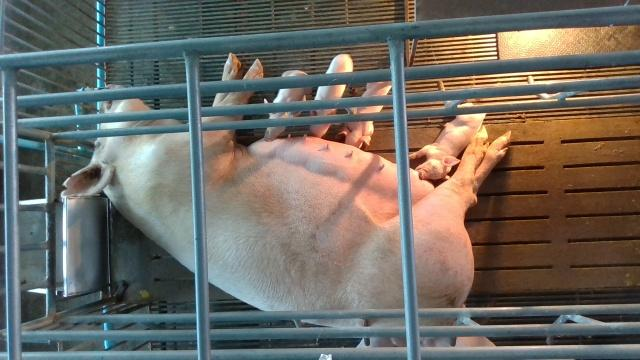piglet: (409, 103, 485, 181), (309, 53, 355, 138), (340, 81, 392, 150), (263, 70, 312, 141)
sow-sleep-lactate: (63, 53, 511, 327)
